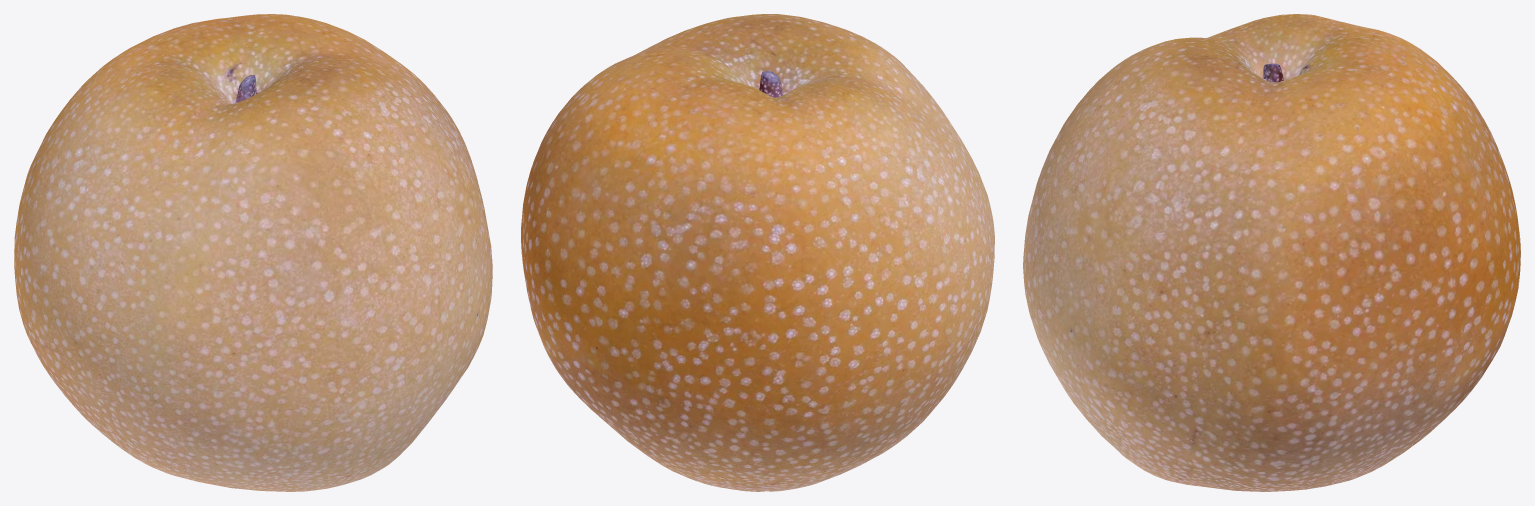
Rendered from realpearwhole.glb.
The picture shows the model from 3 angles, left to right: view 1: azimuth 30°, elevation 25°; view 2: azimuth 150°, elevation 25°; view 3: azimuth 270°, elevation 25°; orthographic projection. The views are drawn at different scales.
Parts seen in each view (by area): view 1: pear_02; view 2: pear_02; view 3: pear_02.
Boxes of the visible parts, bbox=[...] form: pear_02: bbox=[14, 14, 492, 491]; pear_02: bbox=[521, 14, 994, 491]; pear_02: bbox=[1023, 14, 1520, 491].
Bounding box in the file's own units: 0.1 × 0.0916 × 0.0989.
Materials: 1 (1 with a texture image).
